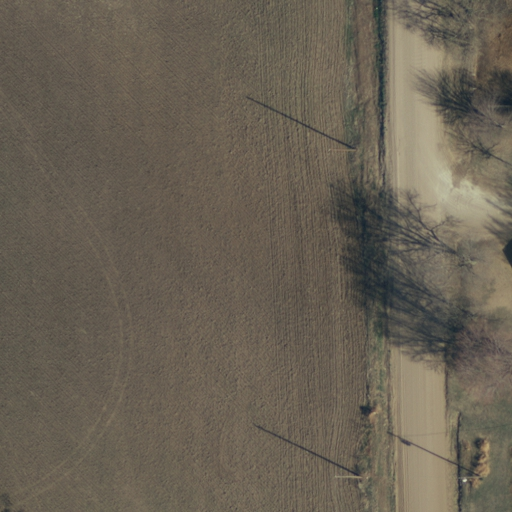DT: (329, 463, 368, 491), (322, 138, 365, 163), (451, 466, 486, 490)
